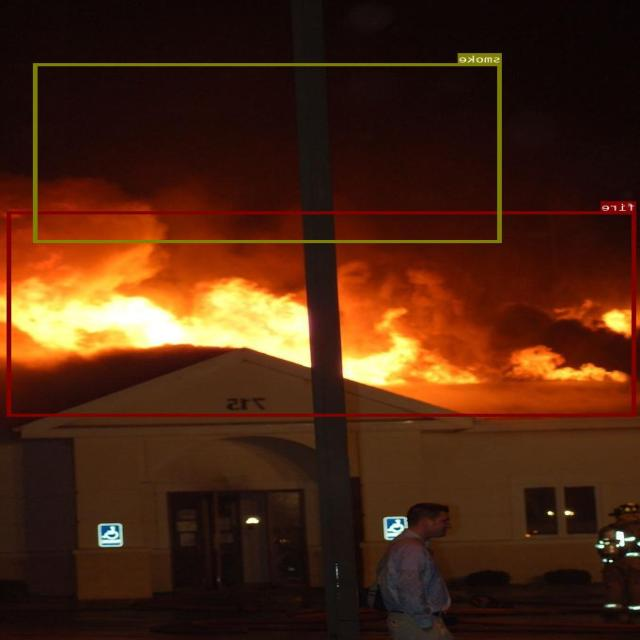fire: (8, 211, 637, 416)
smoke: (34, 63, 502, 242)
